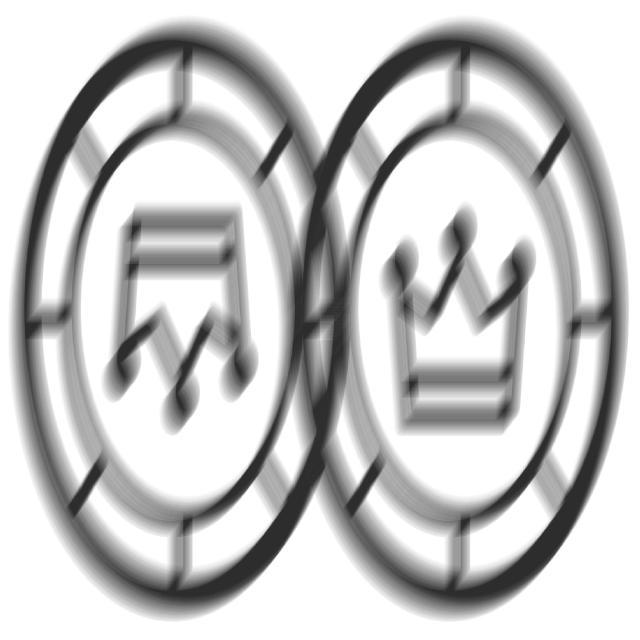coin: (278, 15, 636, 636), (7, 18, 366, 627)
